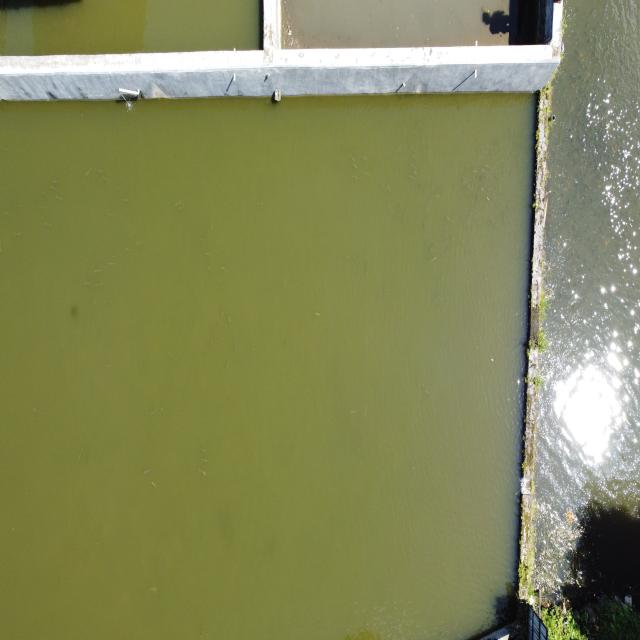Ponds: (1, 71, 548, 640), (1, 1, 276, 75), (265, 1, 564, 66)
